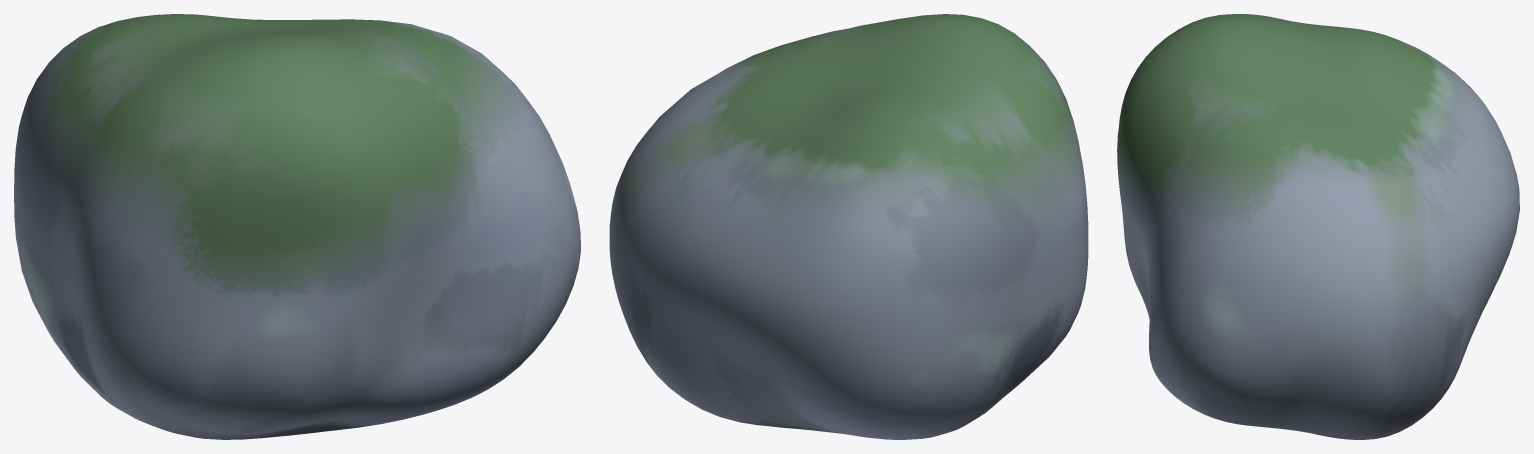
The model's file is rock1.fbx.
3 views of the same model, side by side, from view 1: azimuth 30°, elevation 25°; view 2: azimuth 150°, elevation 25°; view 3: azimuth 270°, elevation 25° (orthographic). The views are drawn at different scales.
Parts seen in each view (by area): view 1: rock; view 2: rock; view 3: rock.
Part boxes in pixels (bbox=[...]): rock: bbox=[14, 14, 580, 439]; rock: bbox=[609, 14, 1088, 439]; rock: bbox=[1117, 14, 1519, 439].
Bounding box in the file's own units: 144 × 123 × 129.
